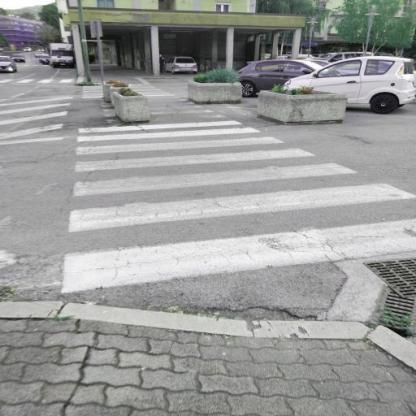crosswalk: (59, 147, 369, 202)
